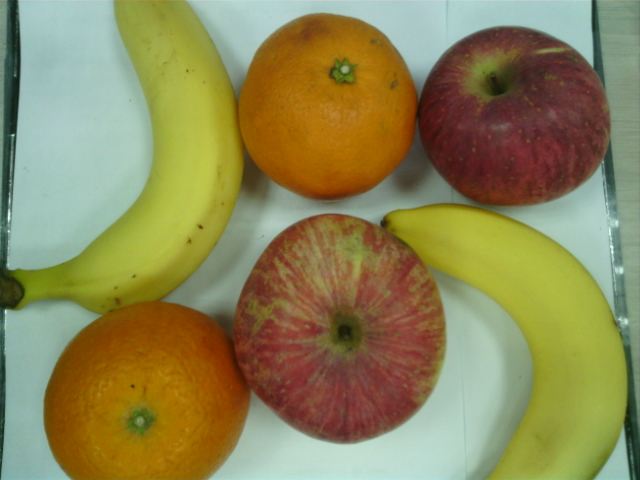normal_apple: (233, 214, 448, 445), (420, 26, 608, 207)
normal_banana: (1, 1, 244, 313), (382, 204, 626, 480)
normal_orange: (43, 302, 251, 480), (239, 14, 416, 199)
